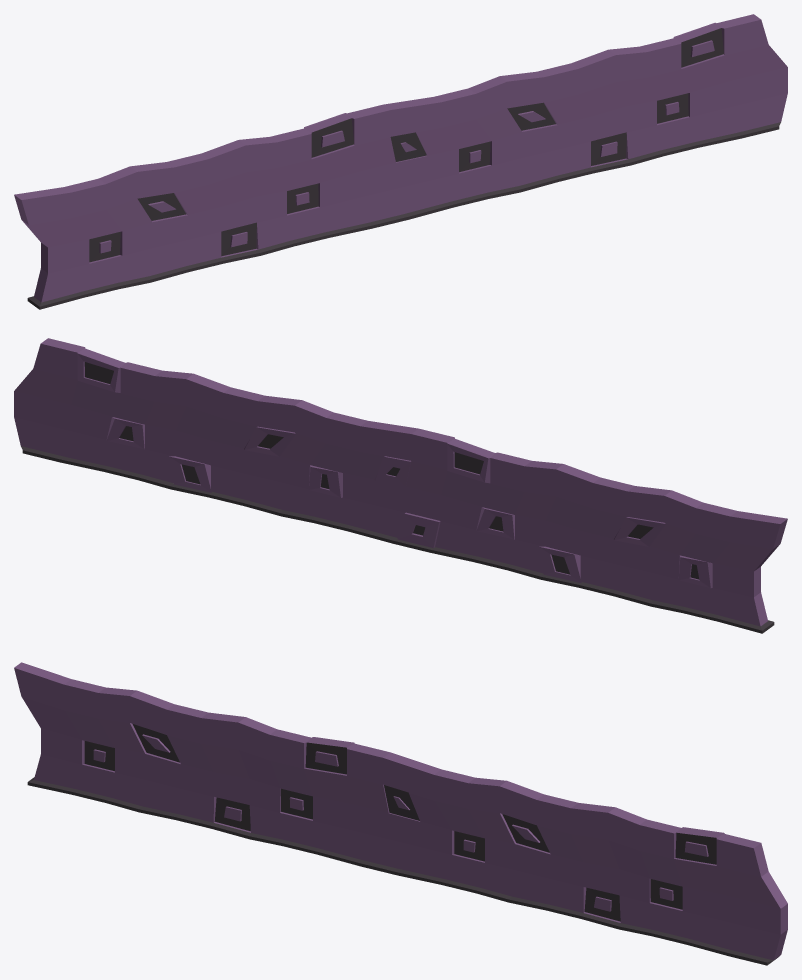
Rendered from ENV_Wall-long_Placeholder2.fbx.
3 renders of one model, top to bottom at view 1: azimuth 30°, elevation 25°; view 2: azimuth 150°, elevation 25°; view 3: azimuth 330°, elevation 25°, orthographic.
Visible parts, largest first — view 1: Wall_middle, Wall_edge; view 2: Wall_middle, Wall_edge; view 3: Wall_middle, Wall_edge.
Boxes of the visible parts, x1,y1,x2,y2 form: Wall_middle: (383,14,787,219); Wall_edge: (14,104,409,309); Wall_middle: (14,338,418,543); Wall_edge: (392,428,787,633); Wall_middle: (383,752,787,965); Wall_edge: (14,662,397,875).
Bounding box in the file's own units: 3786 × 103 × 528.
